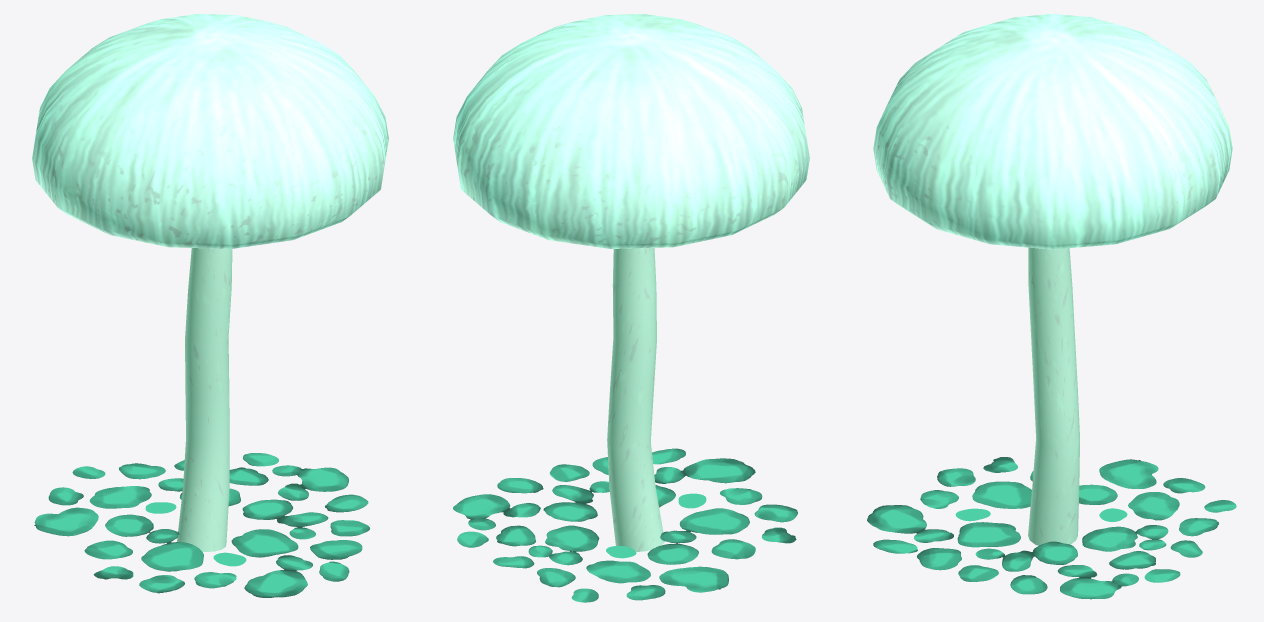
Rendered from lightMushroom.fbx.
The picture shows the model from 3 angles, left to right: view 1: azimuth 30°, elevation 25°; view 2: azimuth 150°, elevation 25°; view 3: azimuth 270°, elevation 25°; orthographic projection.
Visible parts, largest first — view 1: mushroomCap, mushroomPlane, mushroomStem; view 2: mushroomCap, mushroomPlane, mushroomStem; view 3: mushroomCap, mushroomPlane, mushroomStem.
Boxes of the visible parts, x1,y1,x2,y2 form: mushroomCap: (32, 14, 388, 248); mushroomPlane: (34, 453, 369, 597); mushroomStem: (177, 248, 232, 551); mushroomCap: (453, 14, 809, 248); mushroomPlane: (453, 448, 797, 602); mushroomStem: (607, 248, 664, 551); mushroomCap: (873, 14, 1232, 249); mushroomPlane: (867, 457, 1236, 599); mushroomStem: (1028, 247, 1079, 545).
Bounding box in the file's own units: 1.69 × 2.39 × 1.69.
